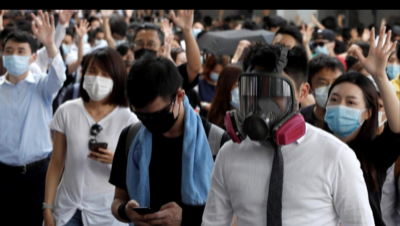with_mask: (237, 79, 298, 141), (323, 91, 366, 136), (134, 100, 176, 136), (81, 65, 113, 99), (311, 73, 340, 107), (1, 45, 29, 74), (131, 37, 159, 61), (310, 38, 330, 58), (344, 49, 363, 70), (383, 54, 398, 79)
